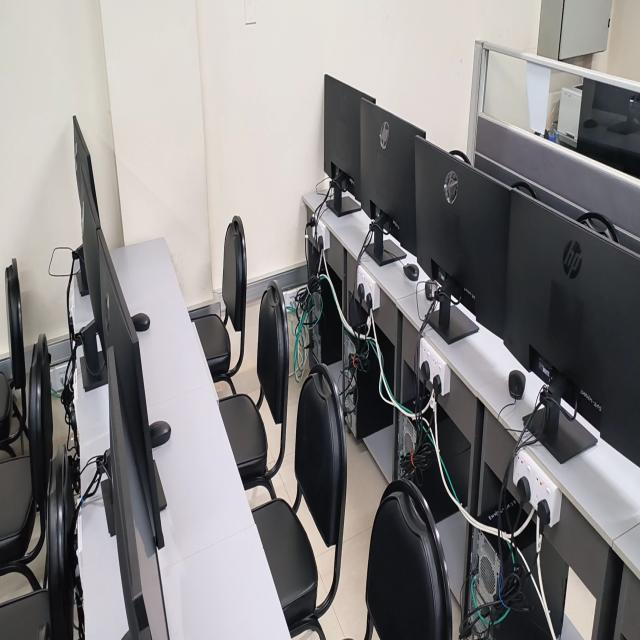Chair: (253, 364, 347, 639), (219, 282, 289, 498), (0, 446, 77, 639), (365, 480, 452, 639), (0, 334, 52, 575), (189, 216, 247, 393), (0, 259, 27, 456), (6, 267, 19, 315), (304, 553, 311, 562)
Cpu: (459, 520, 551, 639), (399, 420, 458, 523), (345, 334, 393, 440), (438, 408, 470, 505), (540, 536, 568, 639), (314, 280, 342, 366), (500, 488, 527, 533), (376, 328, 394, 389), (328, 264, 341, 308)
Monitor: (503, 191, 640, 465), (97, 229, 166, 549), (415, 140, 510, 337), (108, 345, 168, 639), (359, 101, 425, 253), (74, 119, 104, 339), (324, 75, 375, 195)
Mouse: (150, 420, 171, 448), (508, 370, 526, 400), (131, 313, 150, 331), (403, 263, 419, 280)
